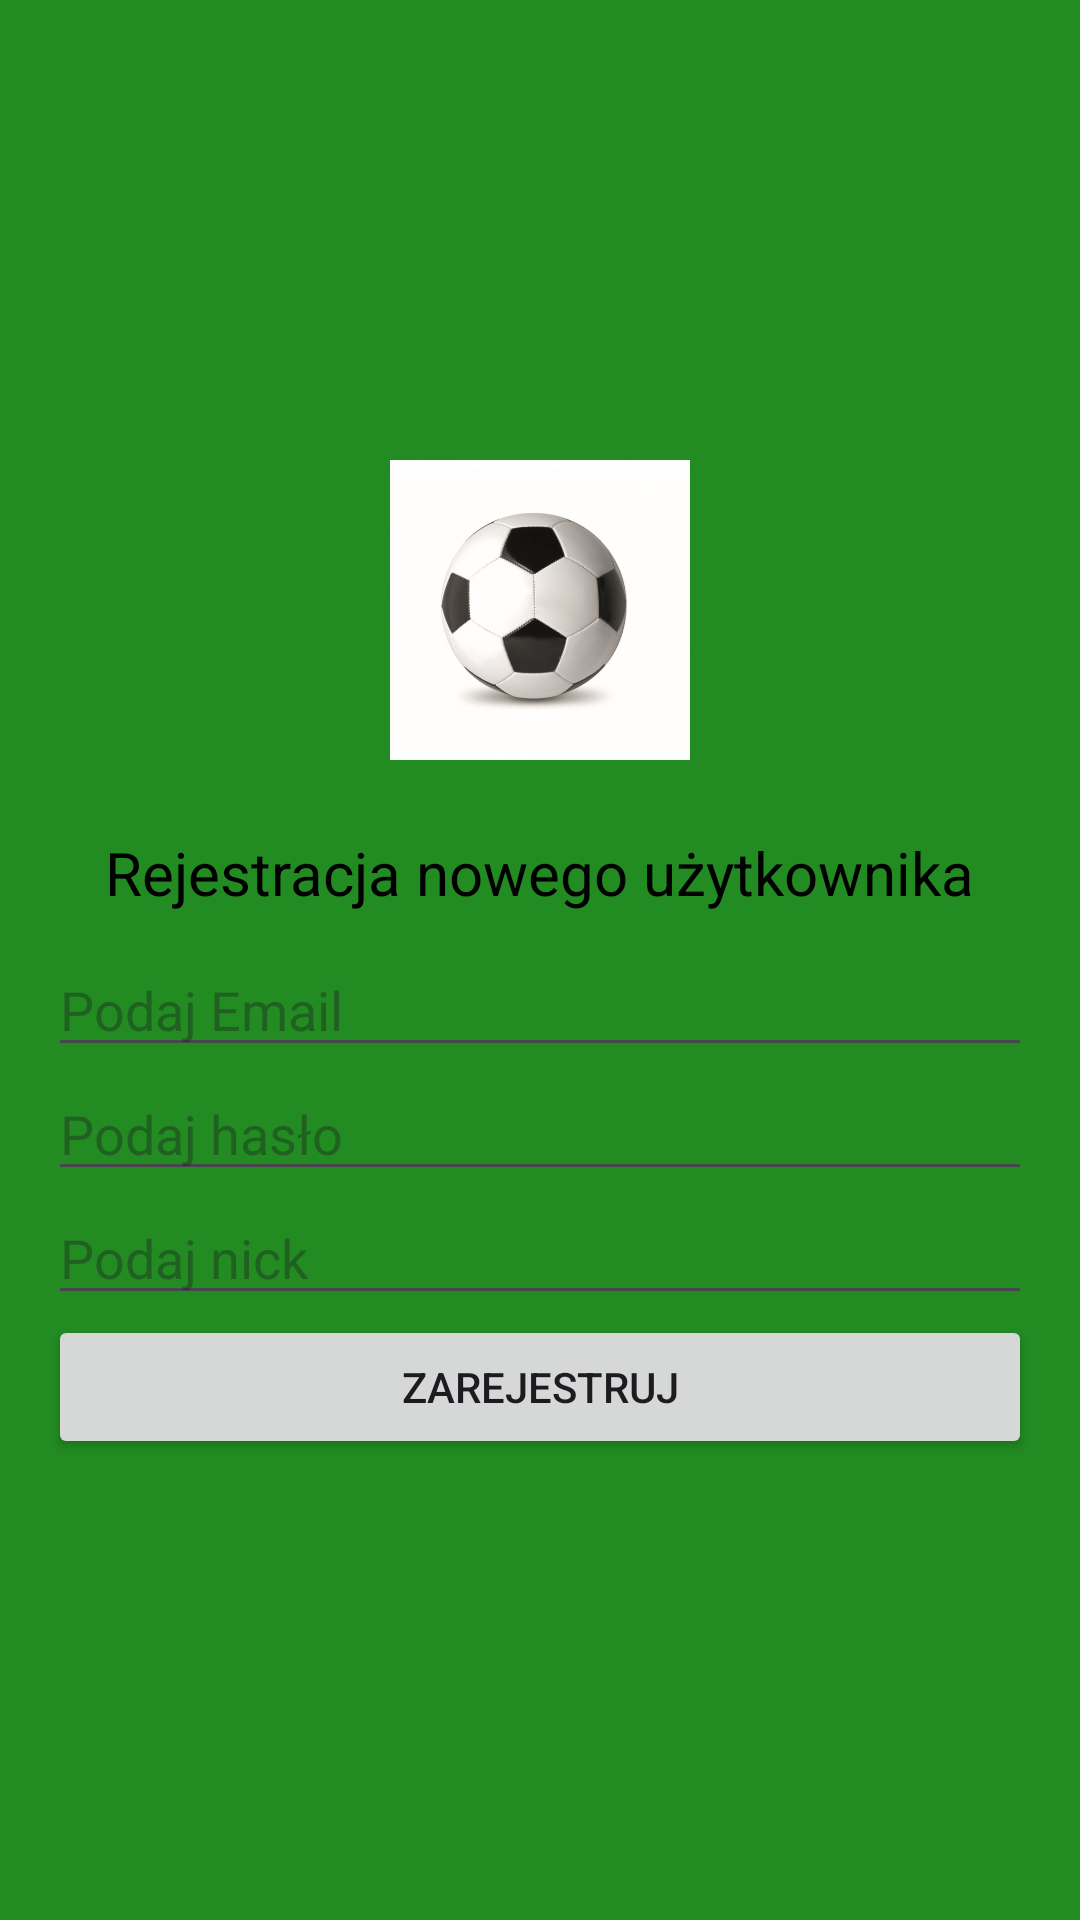

Icons on this 1080w x 1920h Android screen, each with the point to tap as point (x, y):
pilka: point (540, 610)
